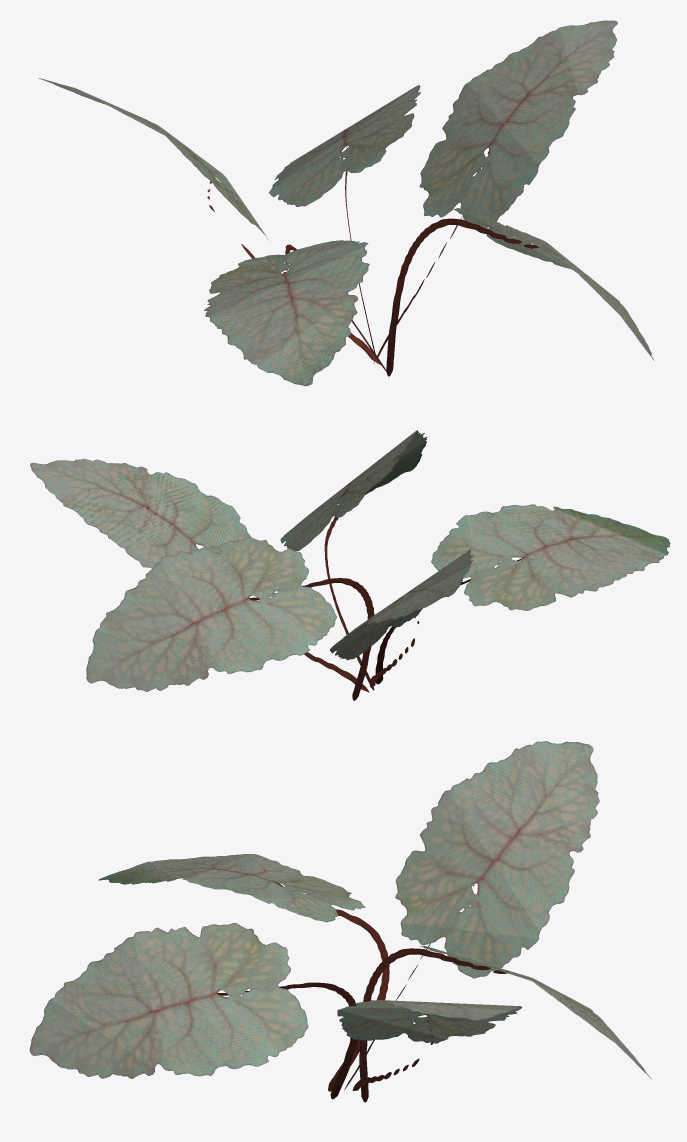
Rendered from Spin Reef D1.fbx.
3 views of the same model, one above another, from view 1: azimuth 30°, elevation 25°; view 2: azimuth 150°, elevation 25°; view 3: azimuth 270°, elevation 25° (orthographic). The views are drawn at different scales.
Parts seen in each view (by area): view 1: Spin Reef D1; view 2: Spin Reef D1; view 3: Spin Reef D1.
Part boxes in pixels (x1,y1,x2,y2): Spin Reef D1: [38, 20, 654, 386]; Spin Reef D1: [30, 430, 670, 700]; Spin Reef D1: [29, 741, 651, 1102].
Bounding box in the file's own units: 159 × 76.96 × 167.
